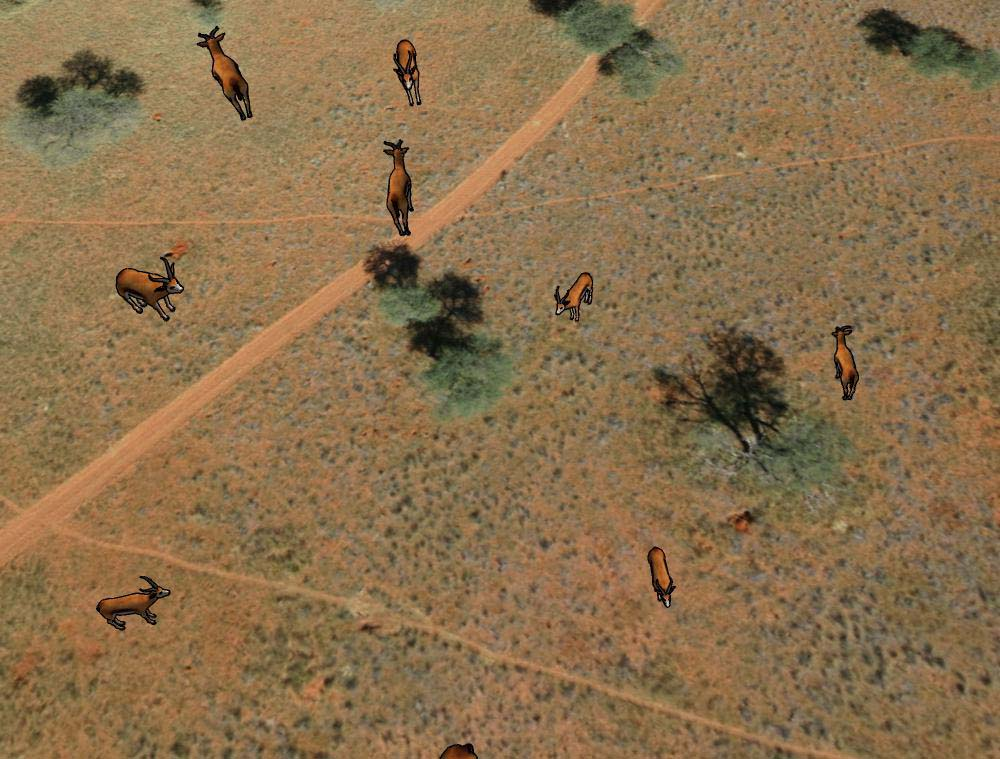springbok: (108, 251, 191, 327), (196, 25, 257, 127), (92, 569, 170, 632), (376, 138, 417, 234), (642, 544, 685, 616), (831, 321, 865, 399), (391, 36, 427, 108), (551, 268, 598, 323)
